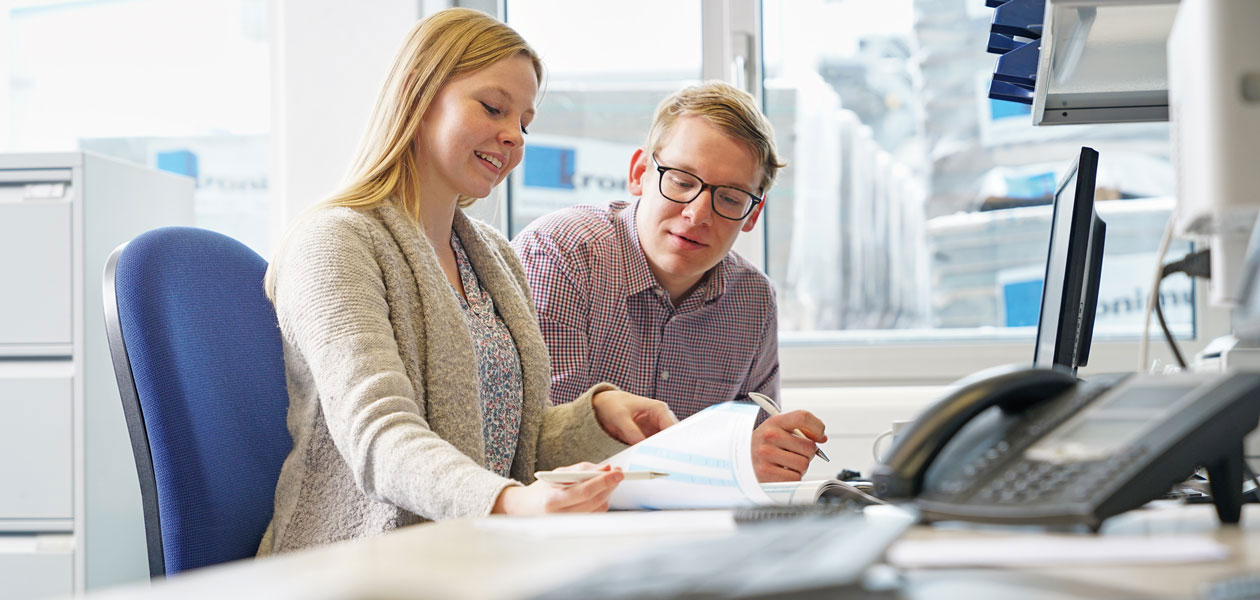Person: (254, 6, 682, 559), (508, 81, 830, 484)
